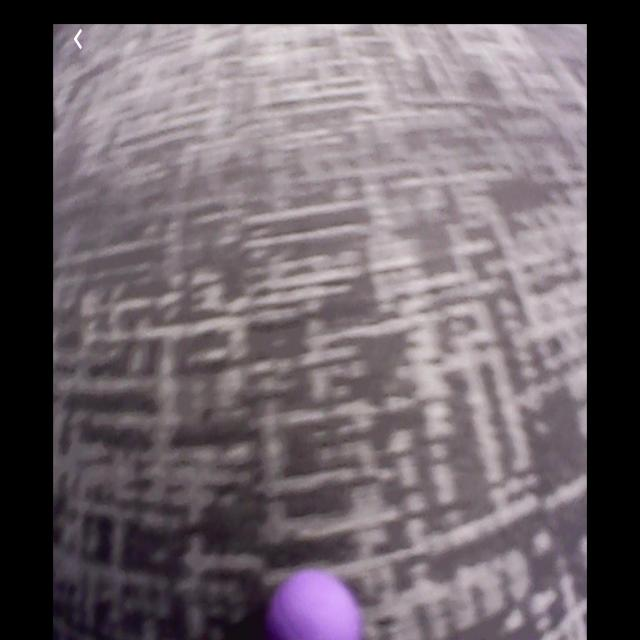ball: (266, 569, 361, 640)
